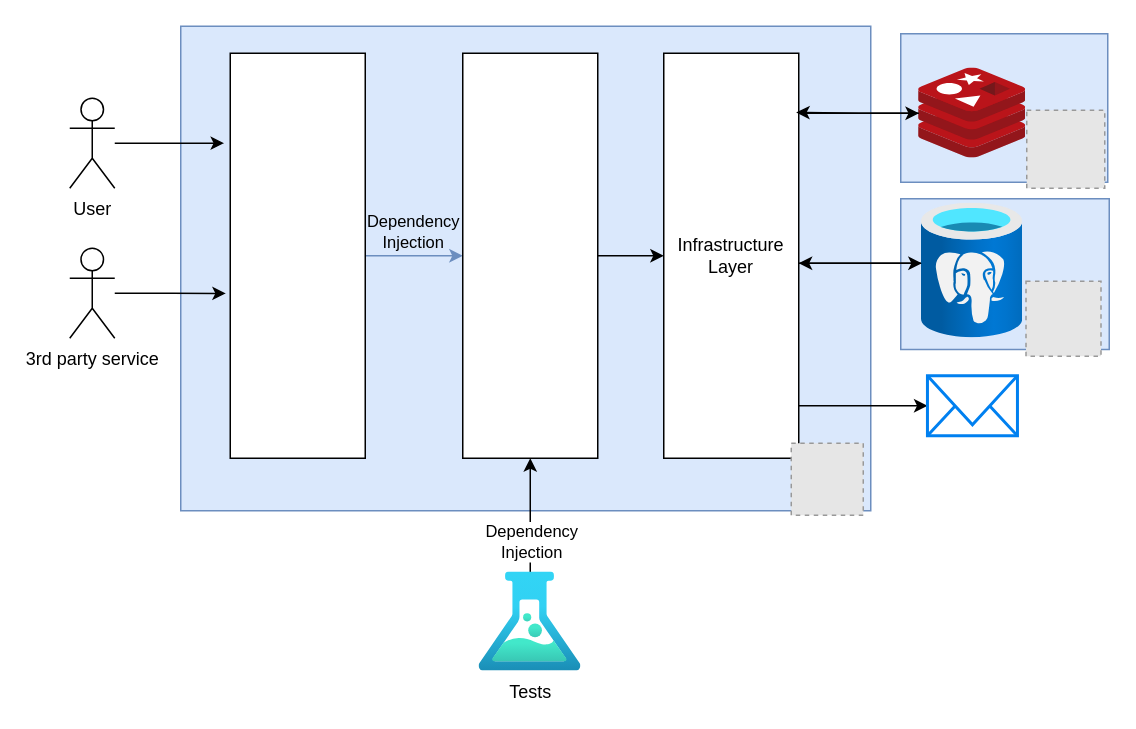
This 1136x729 diagram has some shape labels left out. Grey dashed boxes stand in for pictures. The shapes that lost their labels are listed below. From the top down, each one's centre as x and y in pixels, then its label:
[297,255]: Presentation Layer
[529,255]: Service Layer
